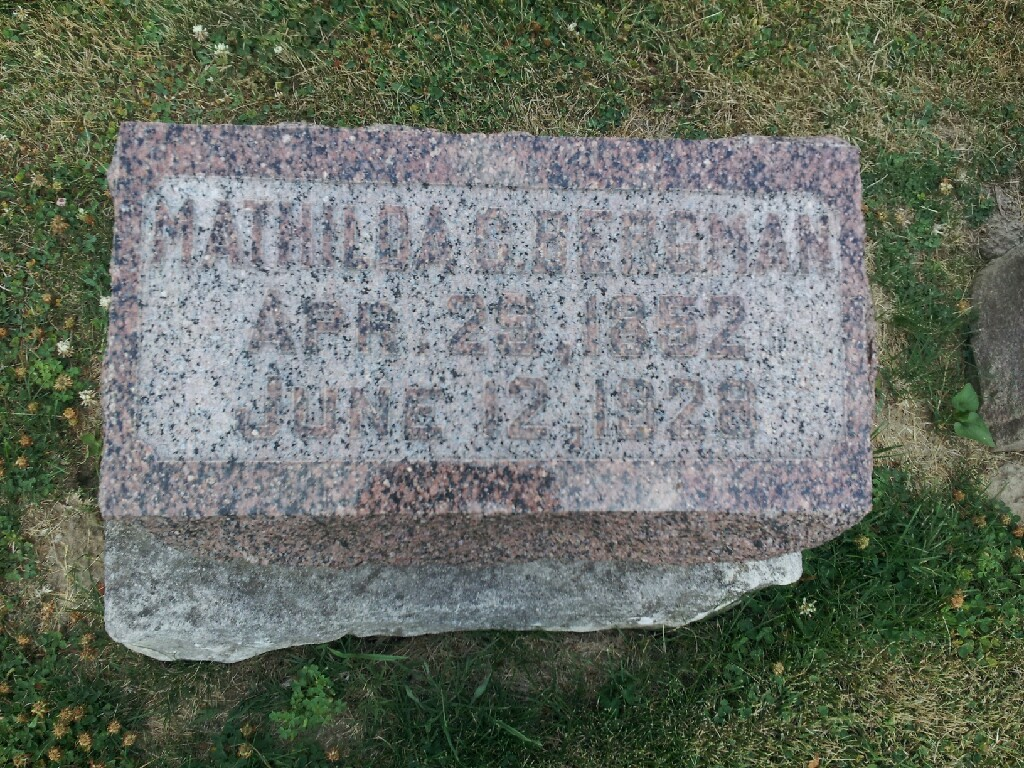flat: (81, 86, 881, 674)
